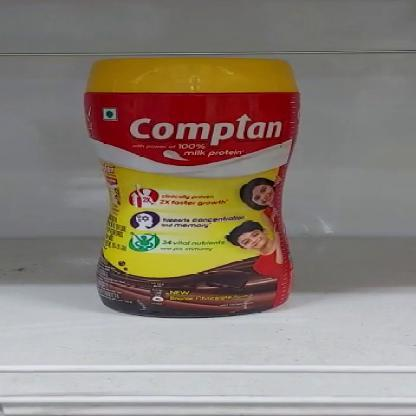Complan Royal Chocolate: (84, 55, 304, 320)
